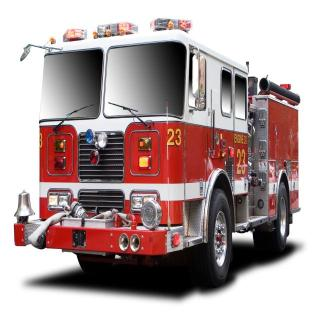Fire_truck: (13, 17, 301, 289)
